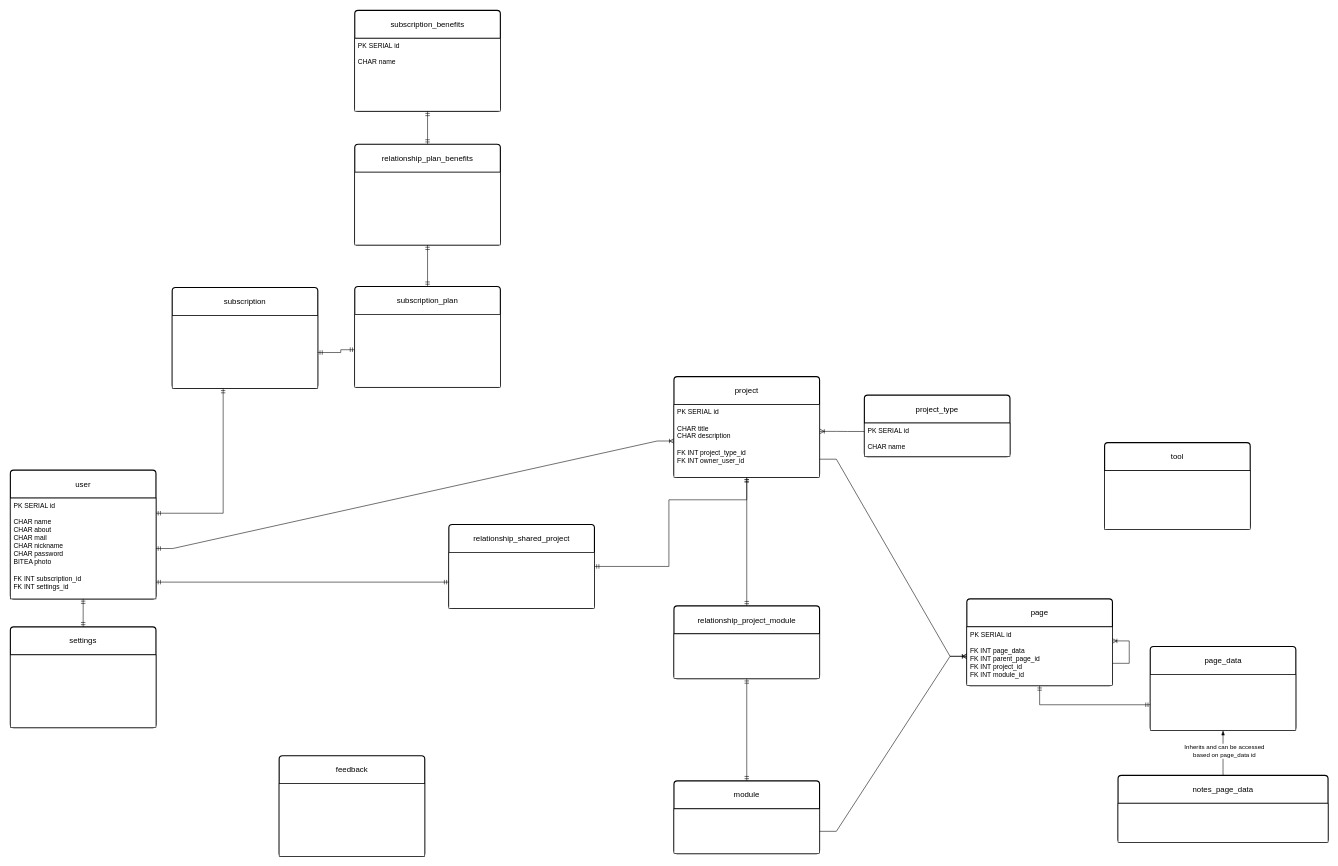
Some shapes in this 1338 by 866 pixel diagram are drawn without their labels. The centre of each missing label's shape, as x and y in pixels:
PK INTEGER REFERENCES page_data (id) CHAR content: point 1222,823
PK SERIAL id CHAR language CHAR country: point 83,691
PK SERIAL id CHAR mail INT rating CHAR comentary: point 352,820
PK SERIAL id CHAR name CHAR description: point 746,831
PK SERIAL id CHAR name CHAR description CHAR url: point 1177,499
PK SERIAL id CHAR name CHAR emoji CHAR description: point 1223,702
PK SERIAL id CHAR name INT price: point 427,350
PK SERIAL id DATE last_paid_date FK INT subscription_plan_id: point 245,351
PK SERIAL id FK INT subscription_plan_id FK INT subscription_benefits_id: point 427,208
PK SERIAL id FK module_id FK project_id: point 746,656
PK SERIAL id INT permissions FK user_shared_id FK project_id: point 521,580
